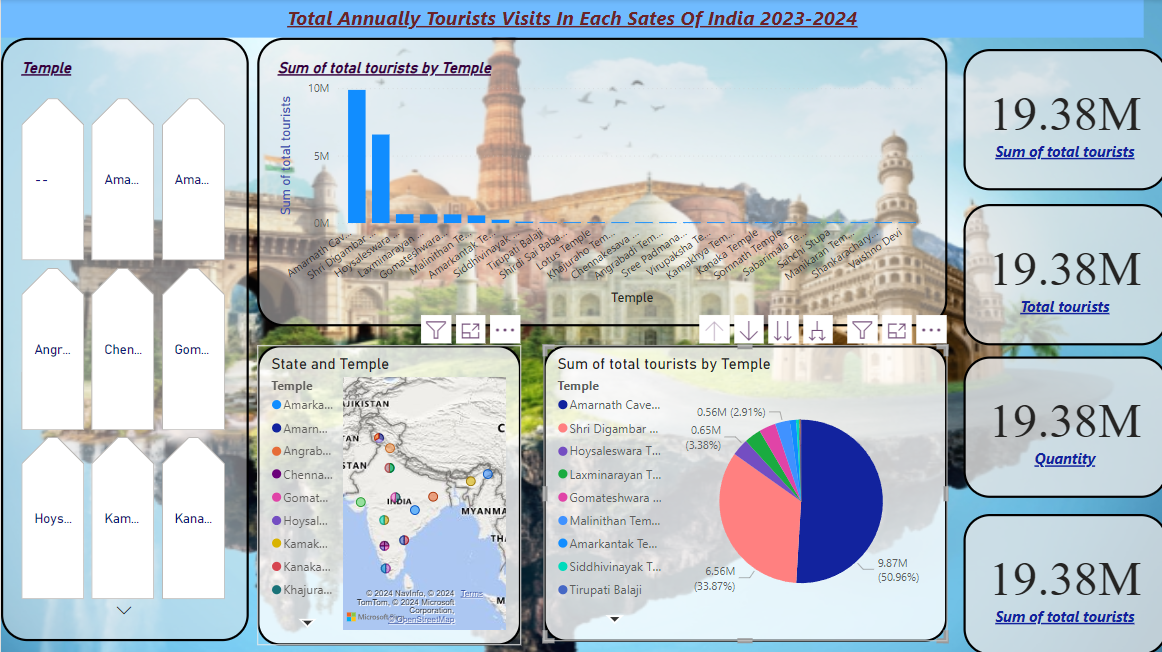

This screenshot's page, from the dashboard's own definition file:
{"tool":"powerbi","page":{"name":"Page 1","canvas":[1280,720],"ordinal":0},"visuals":[{"type":"textbox","box":[0,0,1254.3,42.1],"z":0},{"type":"card","fields":{"Values":["Sum(Page0011.total tourists)"]},"box":[1056.6,54.9,223.7,155.1],"z":1000},{"type":"card","fields":{"Values":["Sum(Page0011.total tourists)"]},"box":[1056.6,565.4,223.7,155.1],"z":2000},{"type":"card","fields":{"Values":["Sum(Page0011.total tourists)"]},"box":[1056.6,392.5,223.7,155.1],"z":3000},{"type":"card","fields":{"Values":["Sum(Page0011.total tourists)"]},"box":[1056.6,225,223.7,155.1],"z":4000},{"type":"clusteredColumnChart","fields":{"Y":["Sum(Page0011.total tourists)"],"Category":["Page0011.Temple"]},"box":[281.3,42.5,757.5,317],"z":5000},{"type":"pieChart","fields":{"Y":["Sum(Page0011.total tourists)"],"Category":["Page0011.Temple","Page0011.State"]},"box":[595.5,380.1,443.2,325.2],"z":6000},{"type":"map","fields":{"Category":["Page0011.State"],"Series":["Page0011.Temple"]},"box":[281.3,380.1,289.5,329.3],"z":7000},{"type":"advancedSlicerVisual","fields":{"Values":["Page0011.Temple"]},"box":[0,42.5,271.7,662.8],"z":8000}]}

Visuals, with their boxes in screenshot pixels (x1, y1, x2, y2), scaled from the page's 1280x720 canvas onto the 1162x652 screenshot:
textbox: <box>0,0,1139,38</box>
card - Sum(Page0011.total tourists): <box>959,50,1161,190</box>
card - Sum(Page0011.total tourists): <box>959,512,1161,651</box>
card - Sum(Page0011.total tourists): <box>959,355,1161,496</box>
card - Sum(Page0011.total tourists): <box>959,204,1161,344</box>
clusteredColumnChart - Sum(Page0011.total tourists) x Page0011.Temple: <box>255,38,943,326</box>
pieChart - Sum(Page0011.total tourists) x Page0011.Temple: <box>541,344,943,639</box>
map - Page0011.State x Page0011.Temple: <box>255,344,518,642</box>
advancedSlicerVisual - Page0011.Temple: <box>0,38,247,639</box>
